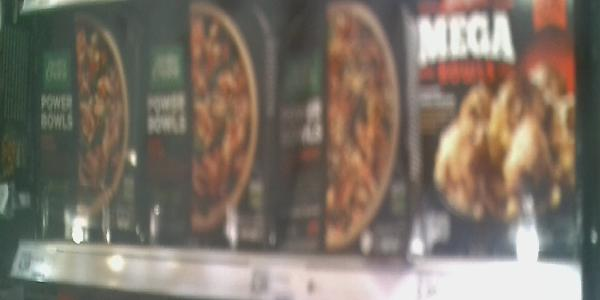pizza1: (413, 1, 581, 263), (275, 3, 412, 259), (147, 1, 273, 252), (26, 6, 144, 245)
